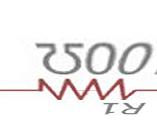resistor: (21, 79, 139, 100)
